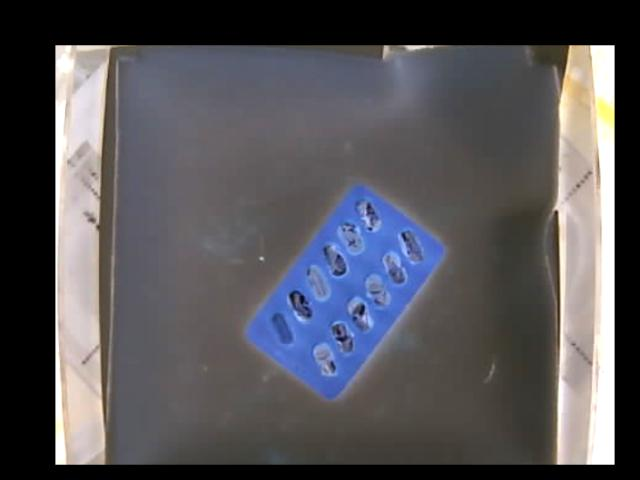Medicine: (242, 182, 441, 400)
